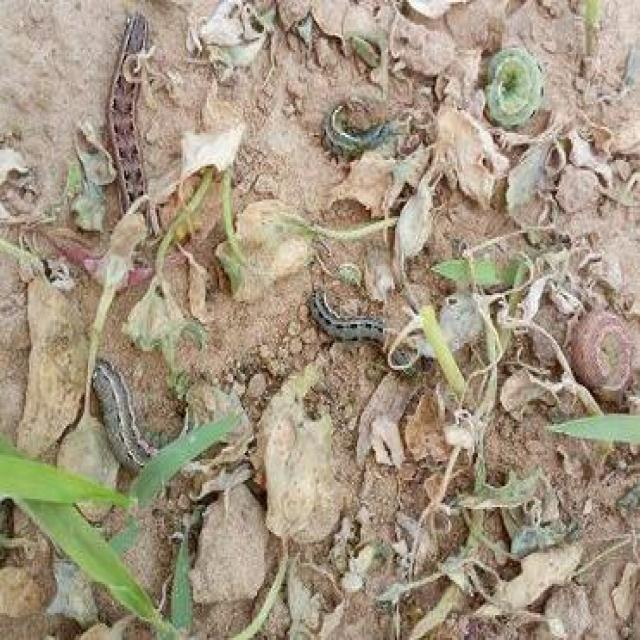BeetArmyWorm-Larva-: (99, 5, 174, 249), (80, 350, 190, 492), (302, 281, 431, 383), (563, 301, 638, 410), (473, 36, 549, 136), (310, 90, 394, 168)
